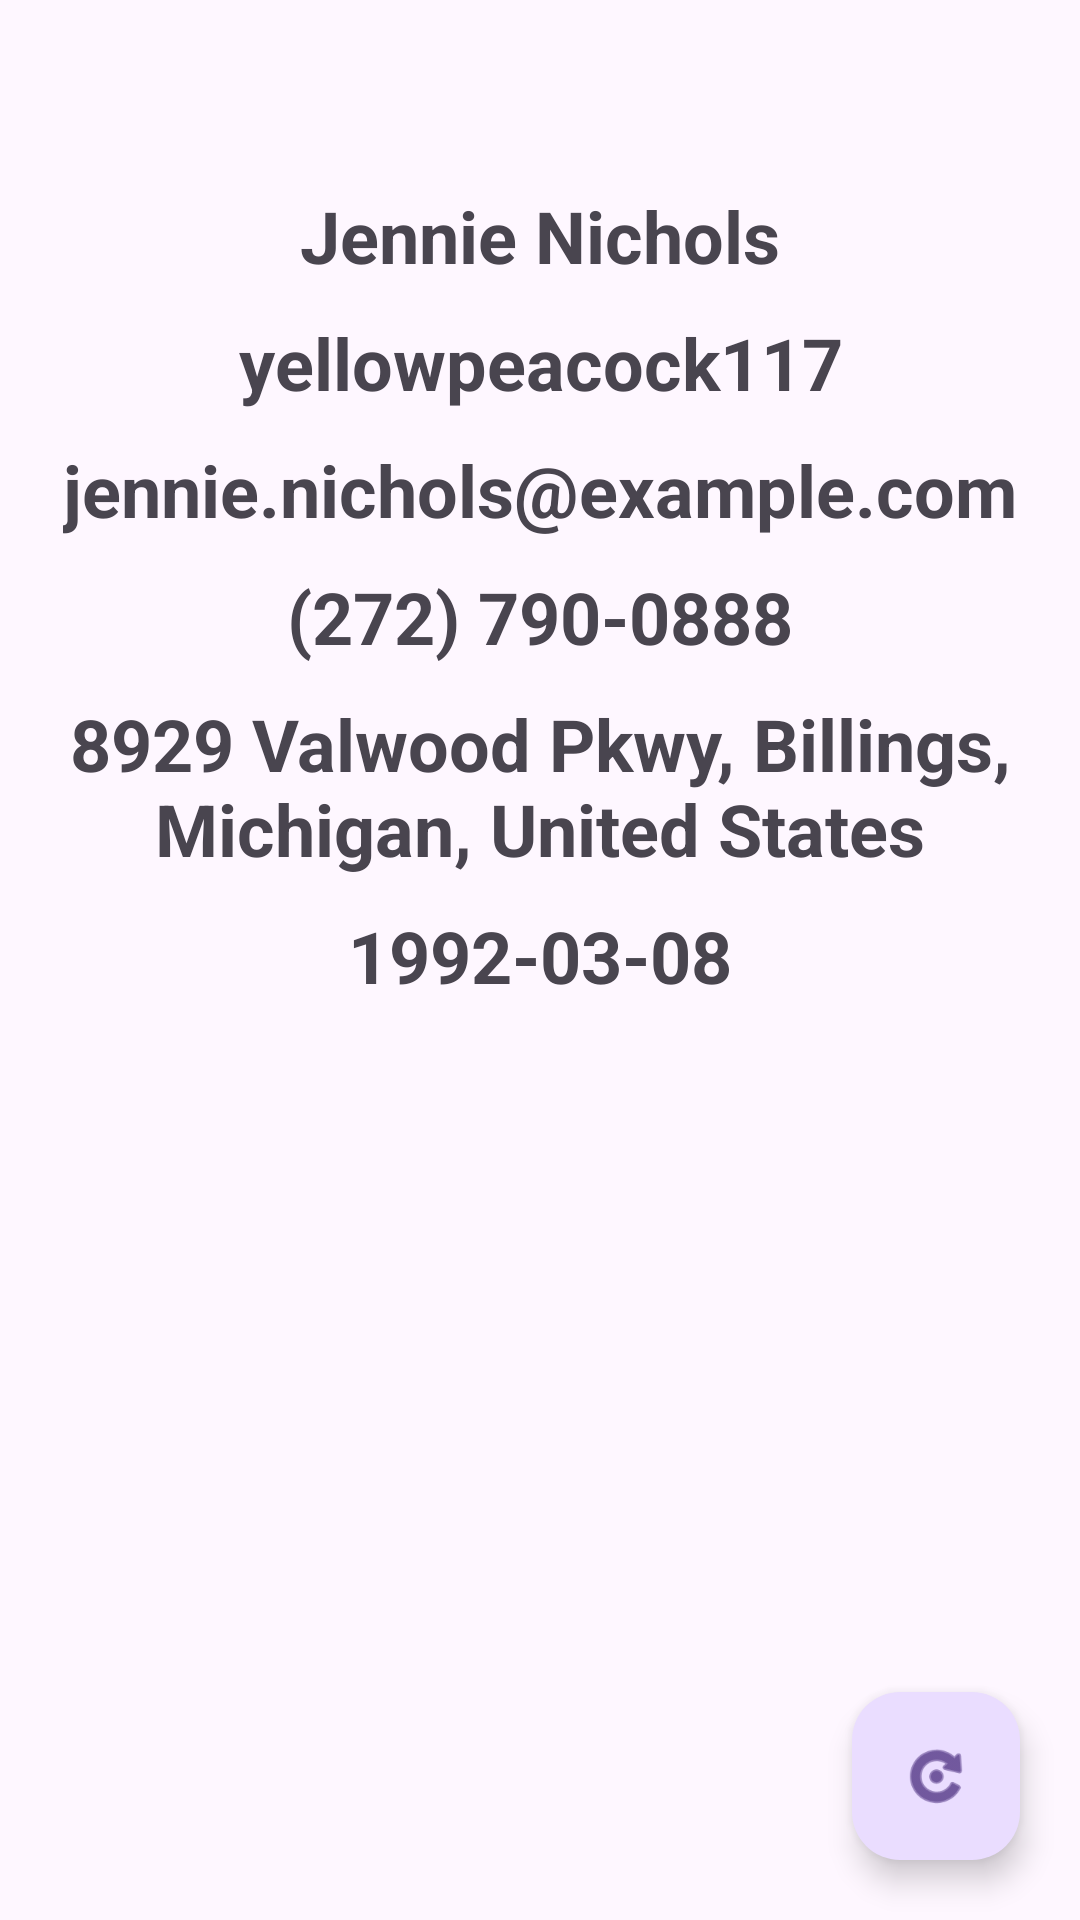

Locate icon controls on the screen. Image size 1080x1920, boxes as (x1, y1, x2, y2).
rotate: (852, 1692, 1020, 1860)
